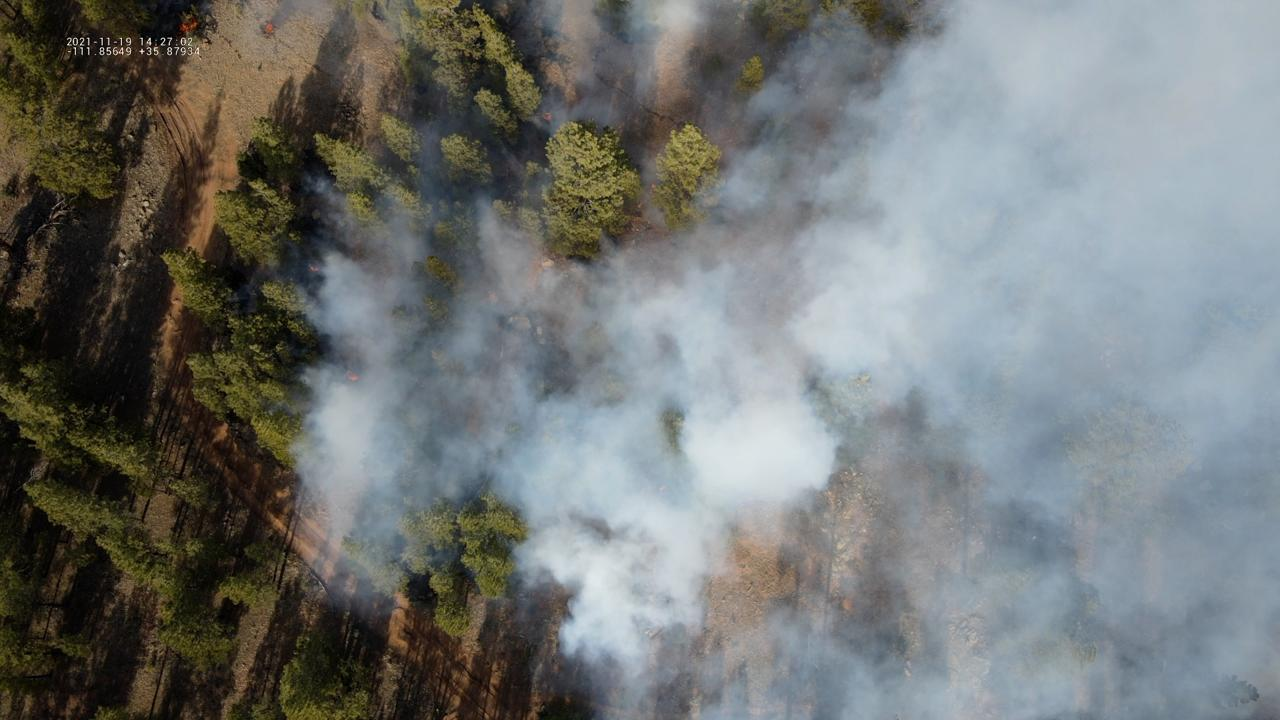fire: (179, 16, 198, 35), (346, 368, 361, 383), (305, 264, 320, 275), (264, 22, 275, 33), (542, 112, 553, 122)
smoke: (229, 0, 1280, 720)
